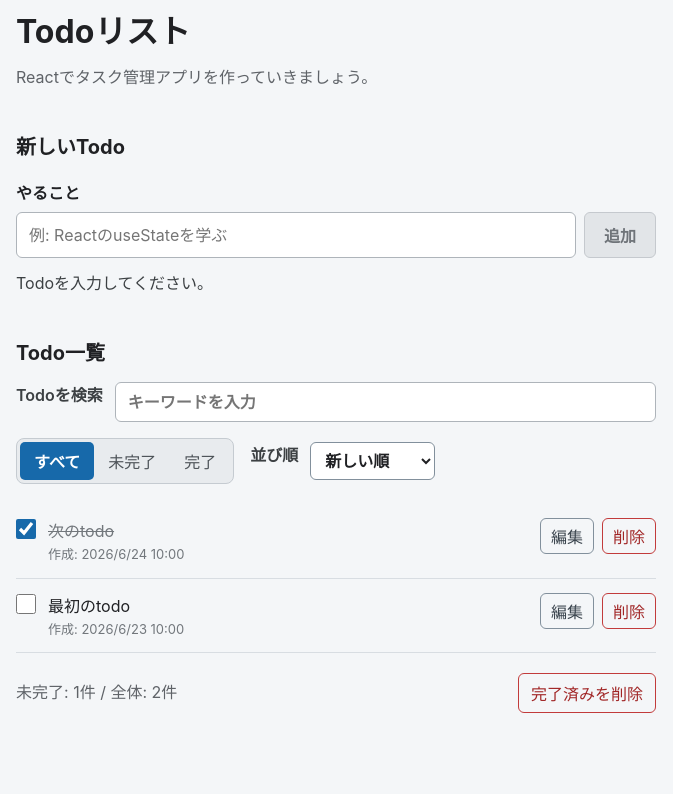
Home › todoを完了にしたら成功メッセージを表示する
The width and height of the screenshot is (673, 794).
Expected: the list item "最初のtodo 作成: 2026/6/23 10:00 編集 削除" is shown, [16,579,656,653]
Click the checkbox labelled "最初のtodo 作成: 2026/6/23 10:00".
click(26, 604)  # box [16,594,36,614]
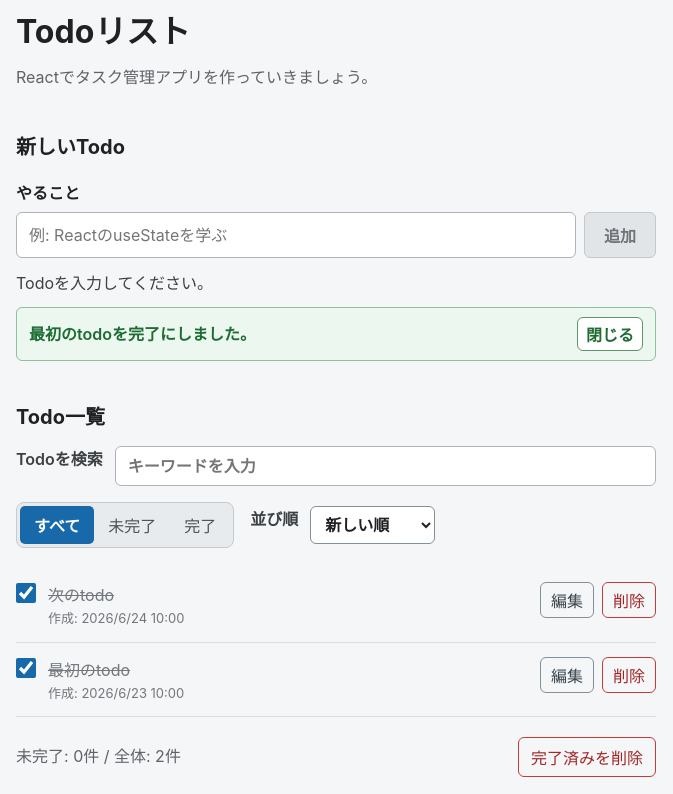
Expected: the message shows "最初のtodoを完了にしました。", [29,324,256,344]
